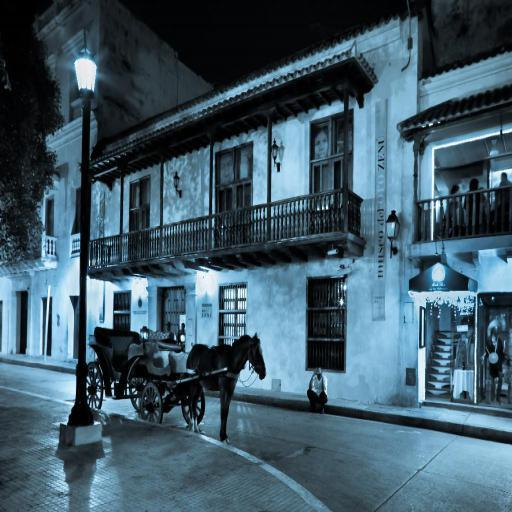horse: (186, 332, 268, 448)
